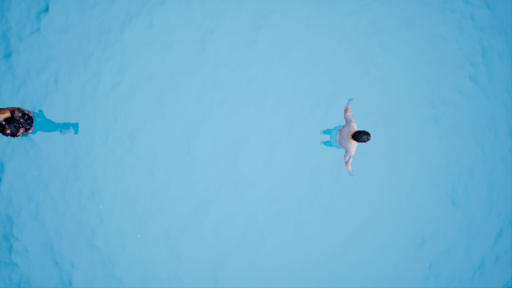person: (2, 98, 87, 148), (320, 101, 373, 179)
